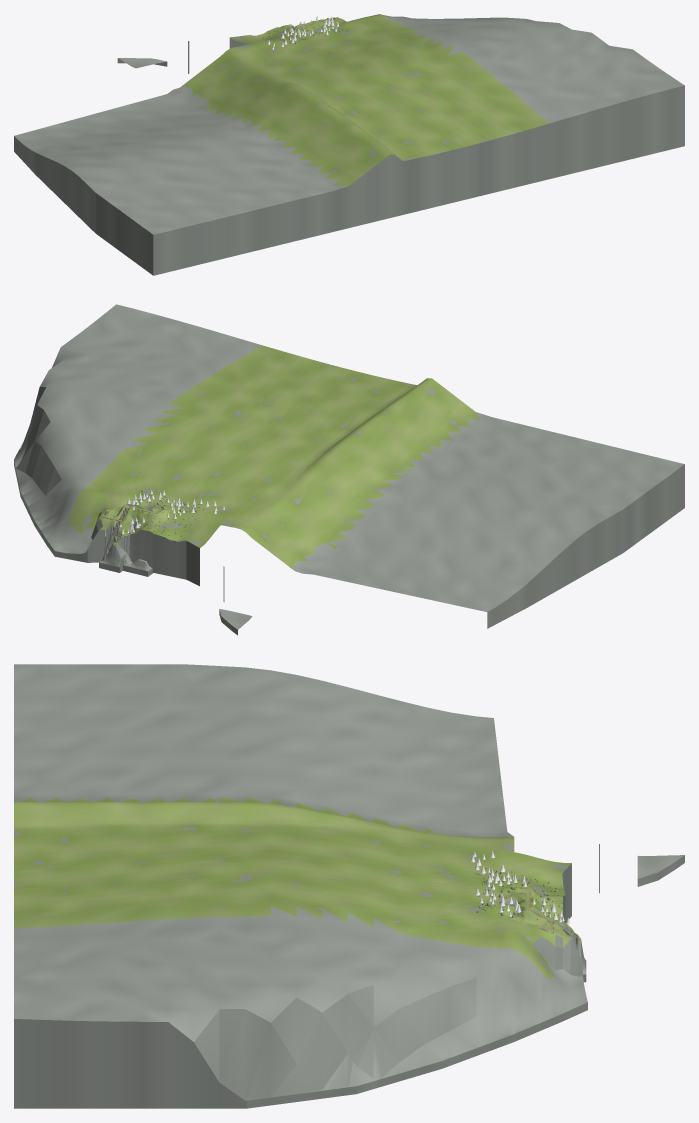
File: retreat_departure_sal2r_runtime.glb
3 renders of one model, top to bottom at view 1: azimuth 30°, elevation 25°; view 2: azimuth 150°, elevation 25°; view 3: azimuth 270°, elevation 25°, orthographic. The views are drawn at different scales.
Parts seen in each view (by area): view 1: SAL2R_Backland_Presentation_Stone, SAL2R_Backland_Presentation_Soil; view 2: SAL2R_Backland_Presentation_Stone, SAL2R_Backland_Presentation_Soil, SAL2R_Integrated_Shoulder_3_Stone, SAL2R_Integrated_Shoulder_2_Stone, SAL2R_Integrated_Shoulder_1_Stone; view 3: SAL2R_Backland_Presentation_Stone, SAL2R_Backland_Presentation_Soil.
Boxes of the visible parts, <box> form: SAL2R_Backland_Presentation_Stone: <box>14,15,684,275</box>; SAL2R_Backland_Presentation_Soil: <box>182,14,549,185</box>; SAL2R_Backland_Presentation_Stone: <box>14,304,684,635</box>; SAL2R_Backland_Presentation_Soil: <box>68,345,479,569</box>; SAL2R_Integrated_Shoulder_3_Stone: <box>109,503,150,572</box>; SAL2R_Integrated_Shoulder_2_Stone: <box>125,505,153,574</box>; SAL2R_Integrated_Shoulder_1_Stone: <box>138,524,161,576</box>; SAL2R_Backland_Presentation_Stone: <box>14,664,684,1108</box>; SAL2R_Backland_Presentation_Soil: <box>14,797,573,978</box>.
Size of the model in its own units: 530 by 61.99 by 392.
